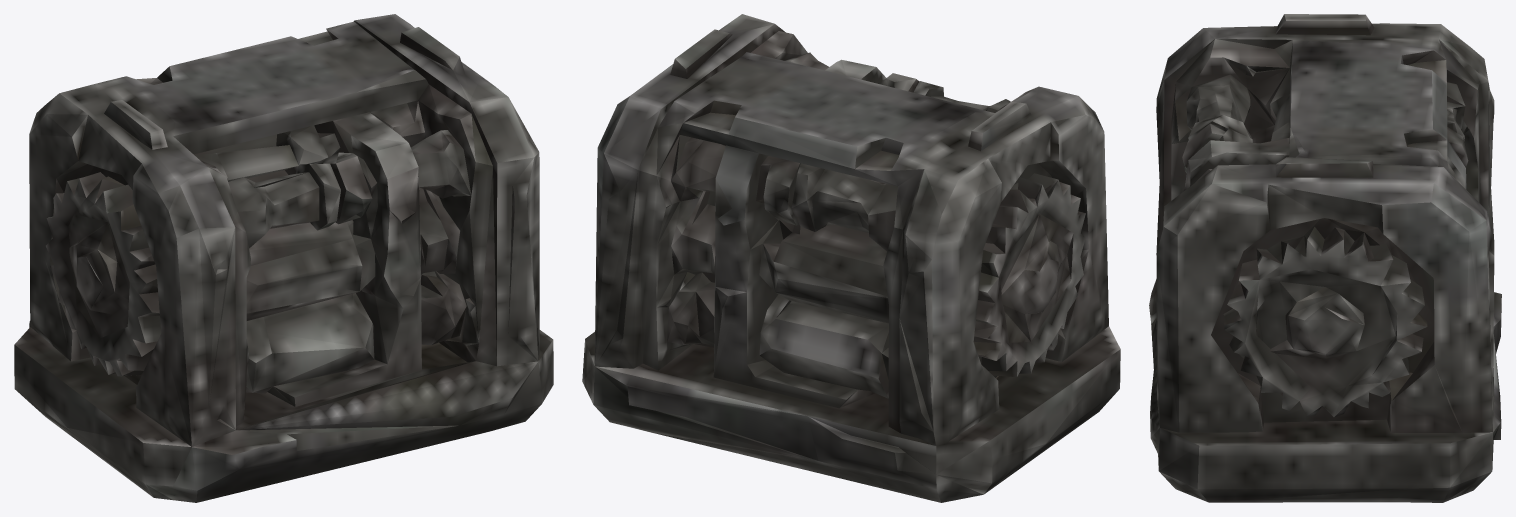
File: res.component.glb
3 views of the same model, side by side, from view 1: azimuth 30°, elevation 25°; view 2: azimuth 150°, elevation 25°; view 3: azimuth 270°, elevation 25° (orthographic).
Visible parts, largest first — view 1: body; view 2: body; view 3: body.
Part boxes in pixels (<box>): body: <box>14,14,553,502</box>; body: <box>582,14,1120,502</box>; body: <box>1149,14,1501,502</box>.
Bounding box in the file's own units: 0.3995 × 0.307 × 0.3008.
1 material, 1 textured.
